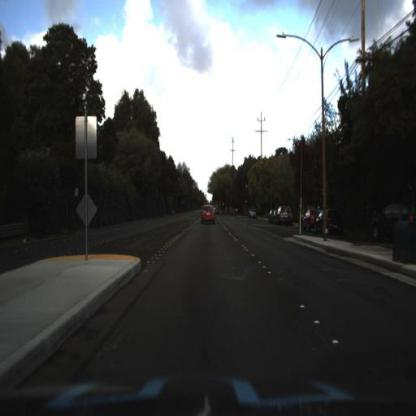car: (370, 197, 416, 246), (317, 205, 340, 236), (299, 207, 321, 235), (275, 201, 296, 229), (202, 202, 216, 227)
